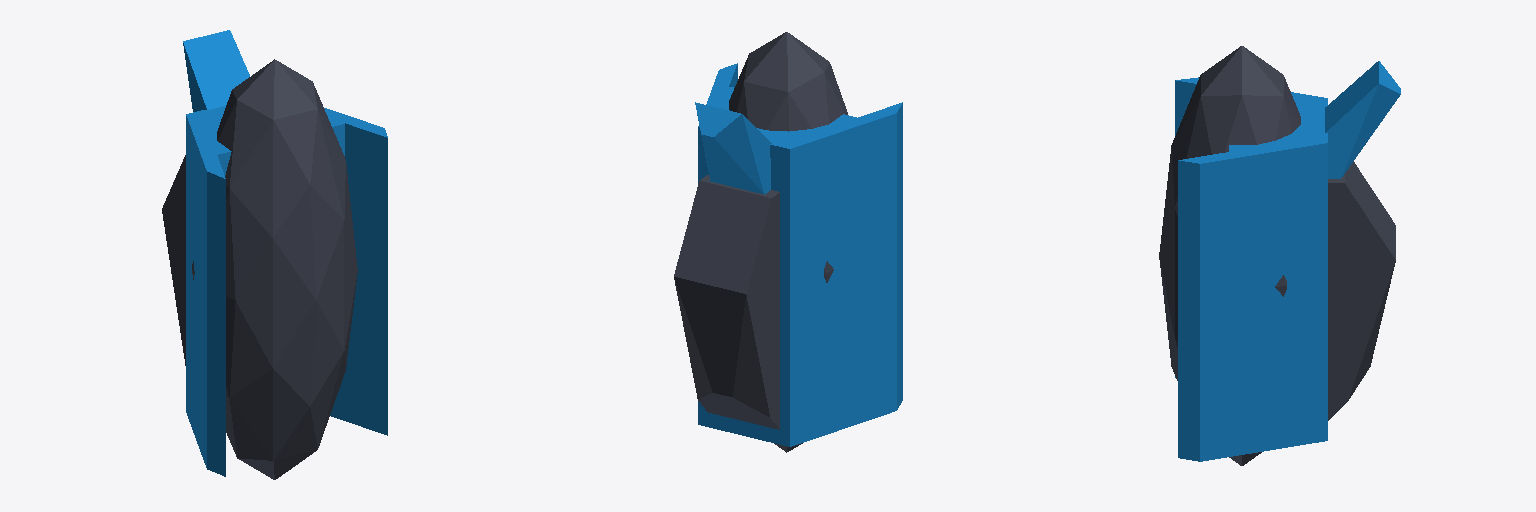
File: lowerLeg.obj
The picture shows the model from 3 angles: view 1: azimuth 30°, elevation 25°; view 2: azimuth 150°, elevation 25°; view 3: azimuth 270°, elevation 25°; orthographic projection.
Bounding box in the file's own units: 0.6182 × 1.4 × 0.7281.